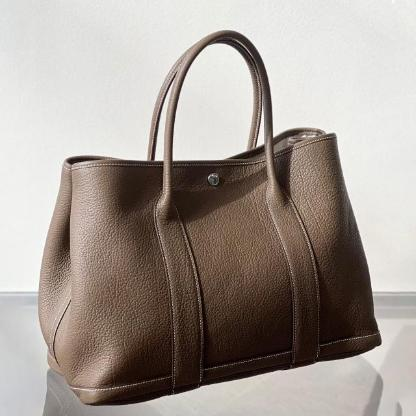bag: (35, 24, 384, 408)
